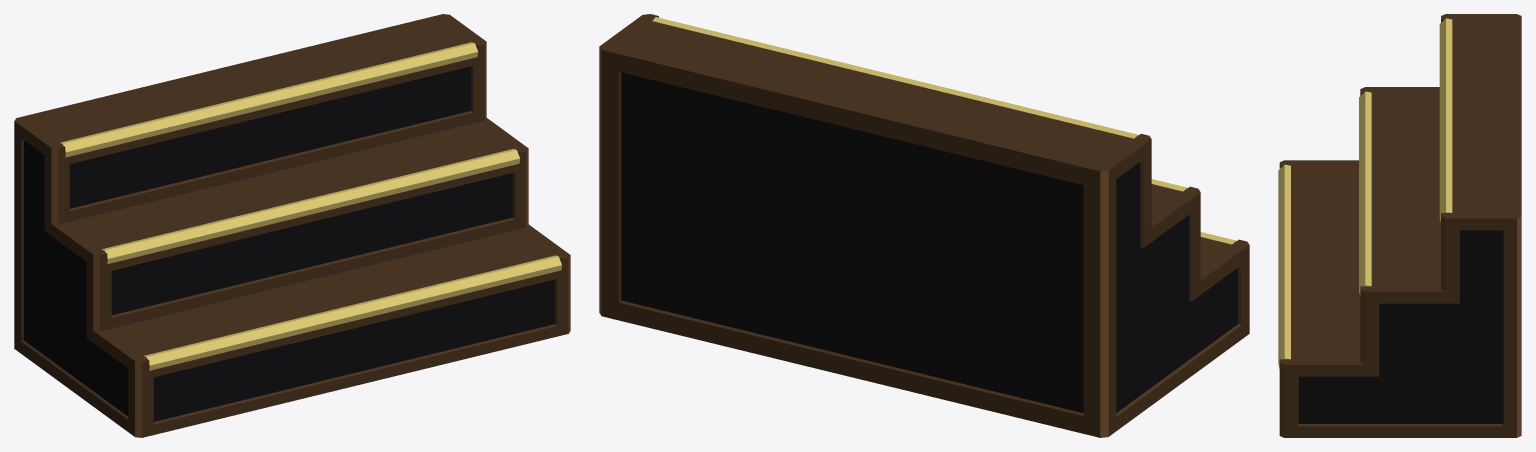
The model's file is tiered-display-riser-4ead78.glb.
3 renders of one model, left to right at view 1: azimuth 30°, elevation 25°; view 2: azimuth 150°, elevation 25°; view 3: azimuth 270°, elevation 25°, orthographic. The views are drawn at different scales.
Parts seen in each view (by area): view 1: riser, nosing; view 2: riser, nosing; view 3: riser, nosing.
Boxes of the visible parts, x1,y1,x2,y2 form: riser: [14, 14, 570, 437]; nosing: [60, 42, 561, 370]; riser: [599, 14, 1249, 437]; nosing: [652, 17, 1236, 244]; riser: [1279, 14, 1521, 437]; nosing: [1278, 18, 1452, 368].
Bounding box in the file's own units: 0.3 × 0.1508 × 0.1508.
